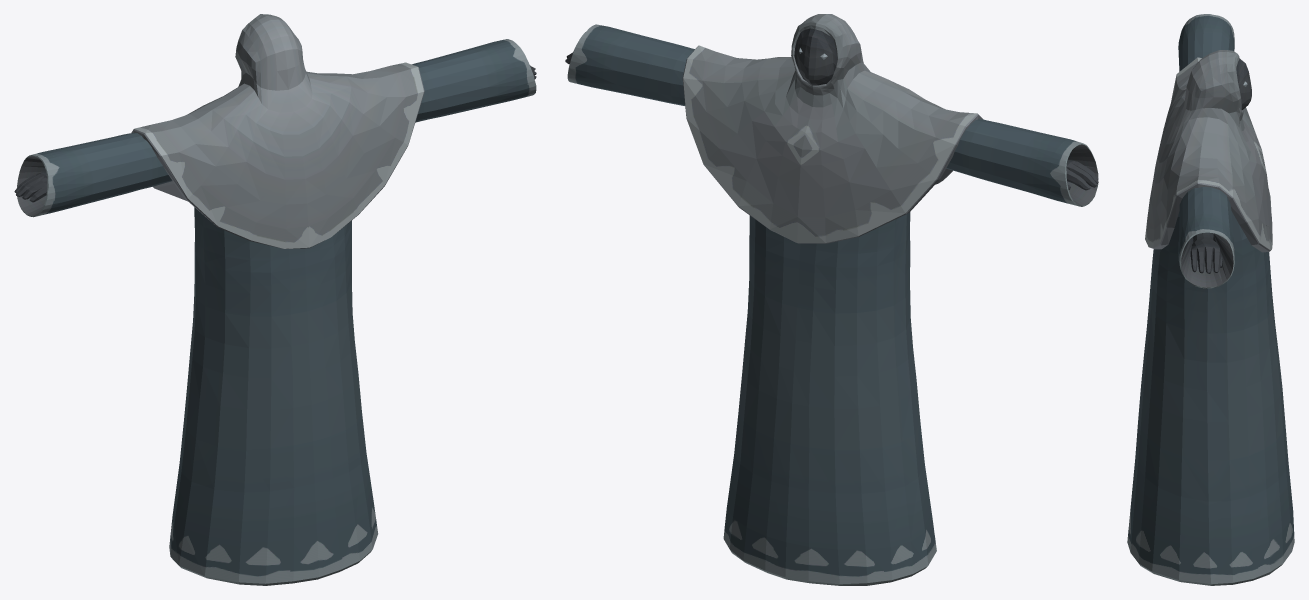
Rendered from CharSkyNPC_Body_SkinnyIntellectual.glb.
3 renders of one model, left to right at view 1: azimuth 30°, elevation 25°; view 2: azimuth 150°, elevation 25°; view 3: azimuth 270°, elevation 25°, orthographic. The views are drawn at different scales.
Parts seen in each view (by area): view 1: CharSkyNPC_Body_SkinnyIntellectual; view 2: CharSkyNPC_Body_SkinnyIntellectual; view 3: CharSkyNPC_Body_SkinnyIntellectual.
Boxes of the visible parts, <box> form: CharSkyNPC_Body_SkinnyIntellectual: <box>14,14,536,585</box>; CharSkyNPC_Body_SkinnyIntellectual: <box>565,14,1098,585</box>; CharSkyNPC_Body_SkinnyIntellectual: <box>1127,14,1294,585</box>.
Size of the model in its own units: 14.2 by 13.77 by 4.22.
1 material, 1 textured.
